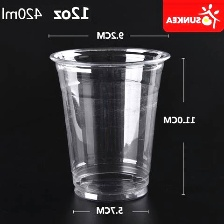glass: (46, 42, 173, 211)
